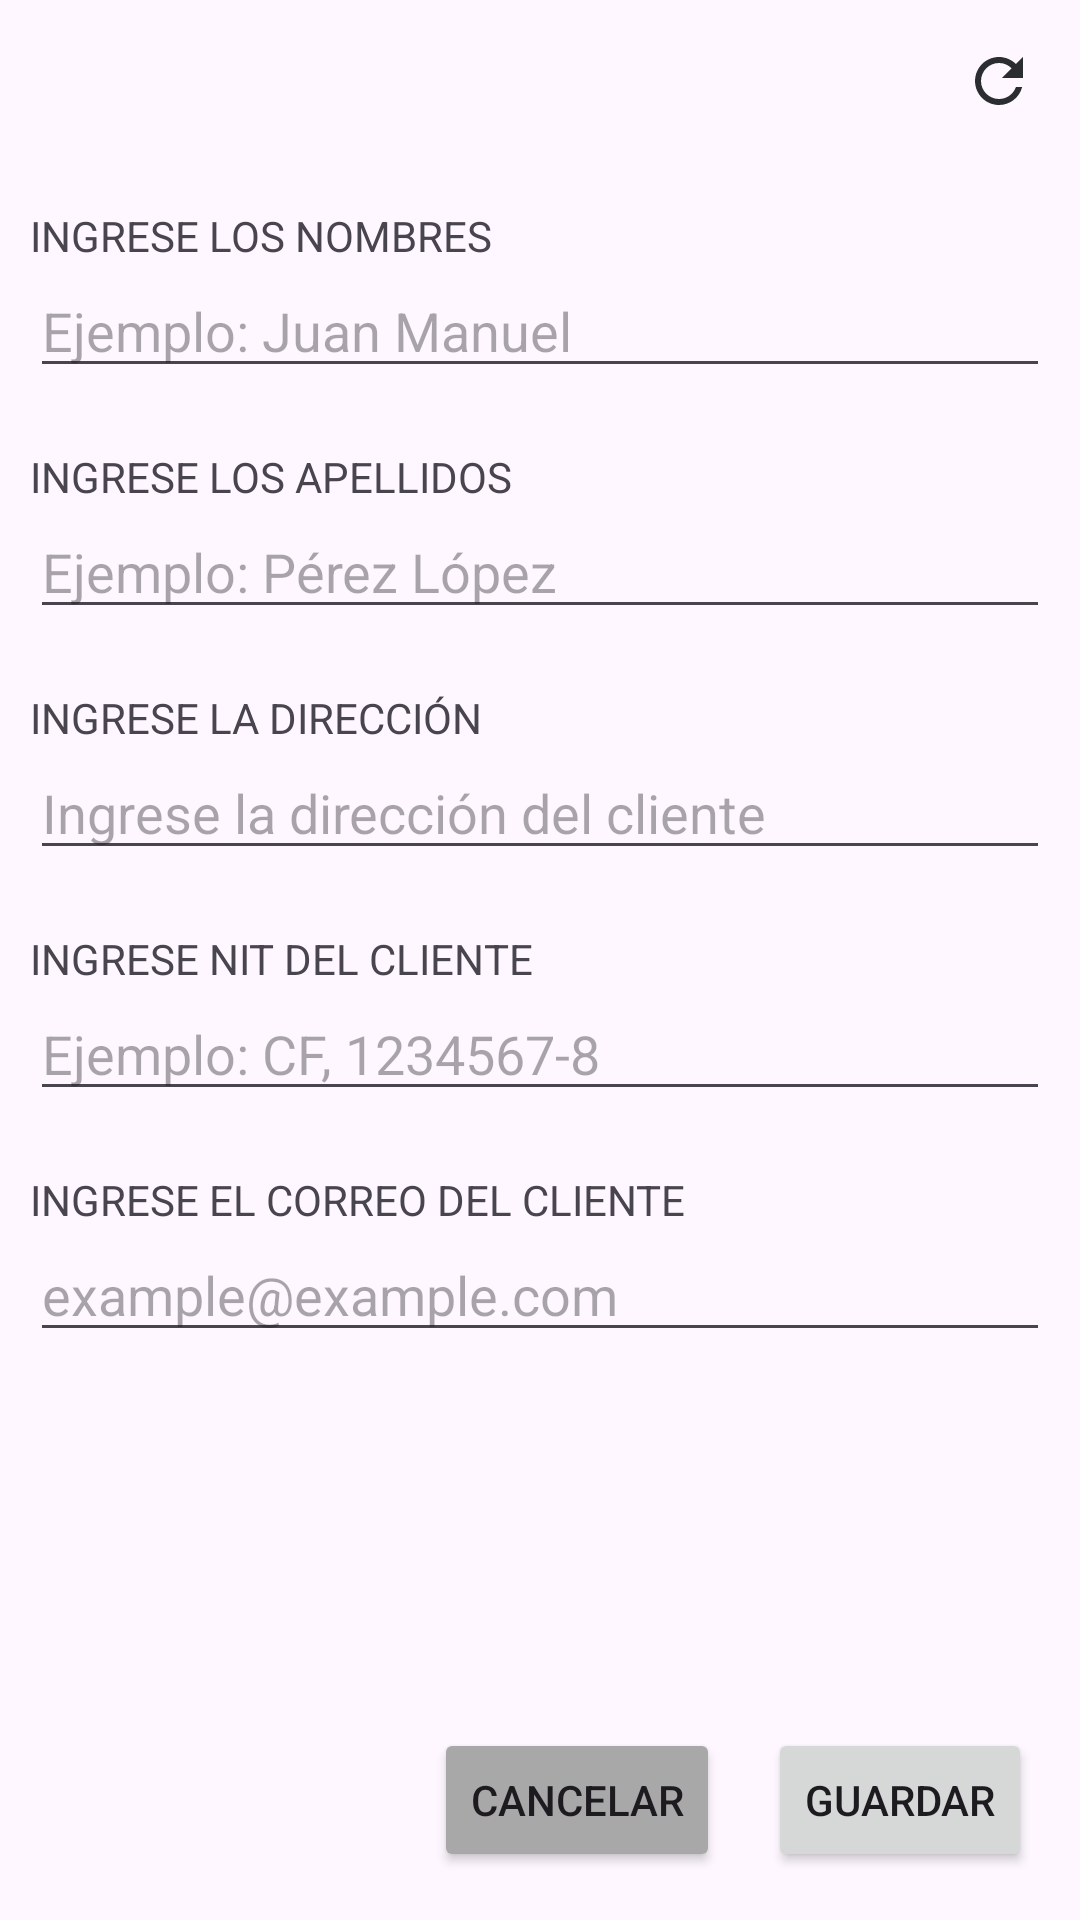

Icons on this 1080px x 1920px Android screen, each with the point to tap as (x=x, y=y):
refresh: (x=999, y=81)
